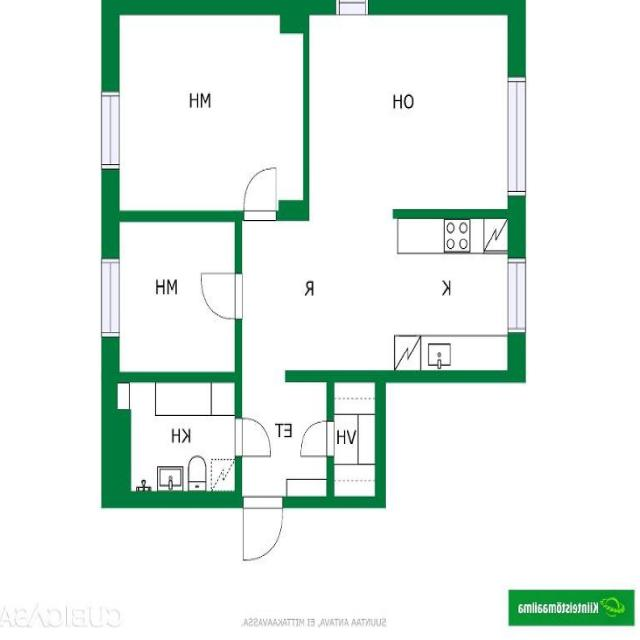door: (243, 497, 283, 560), (201, 274, 242, 318), (244, 168, 276, 220), (235, 418, 270, 456), (301, 421, 334, 456)
